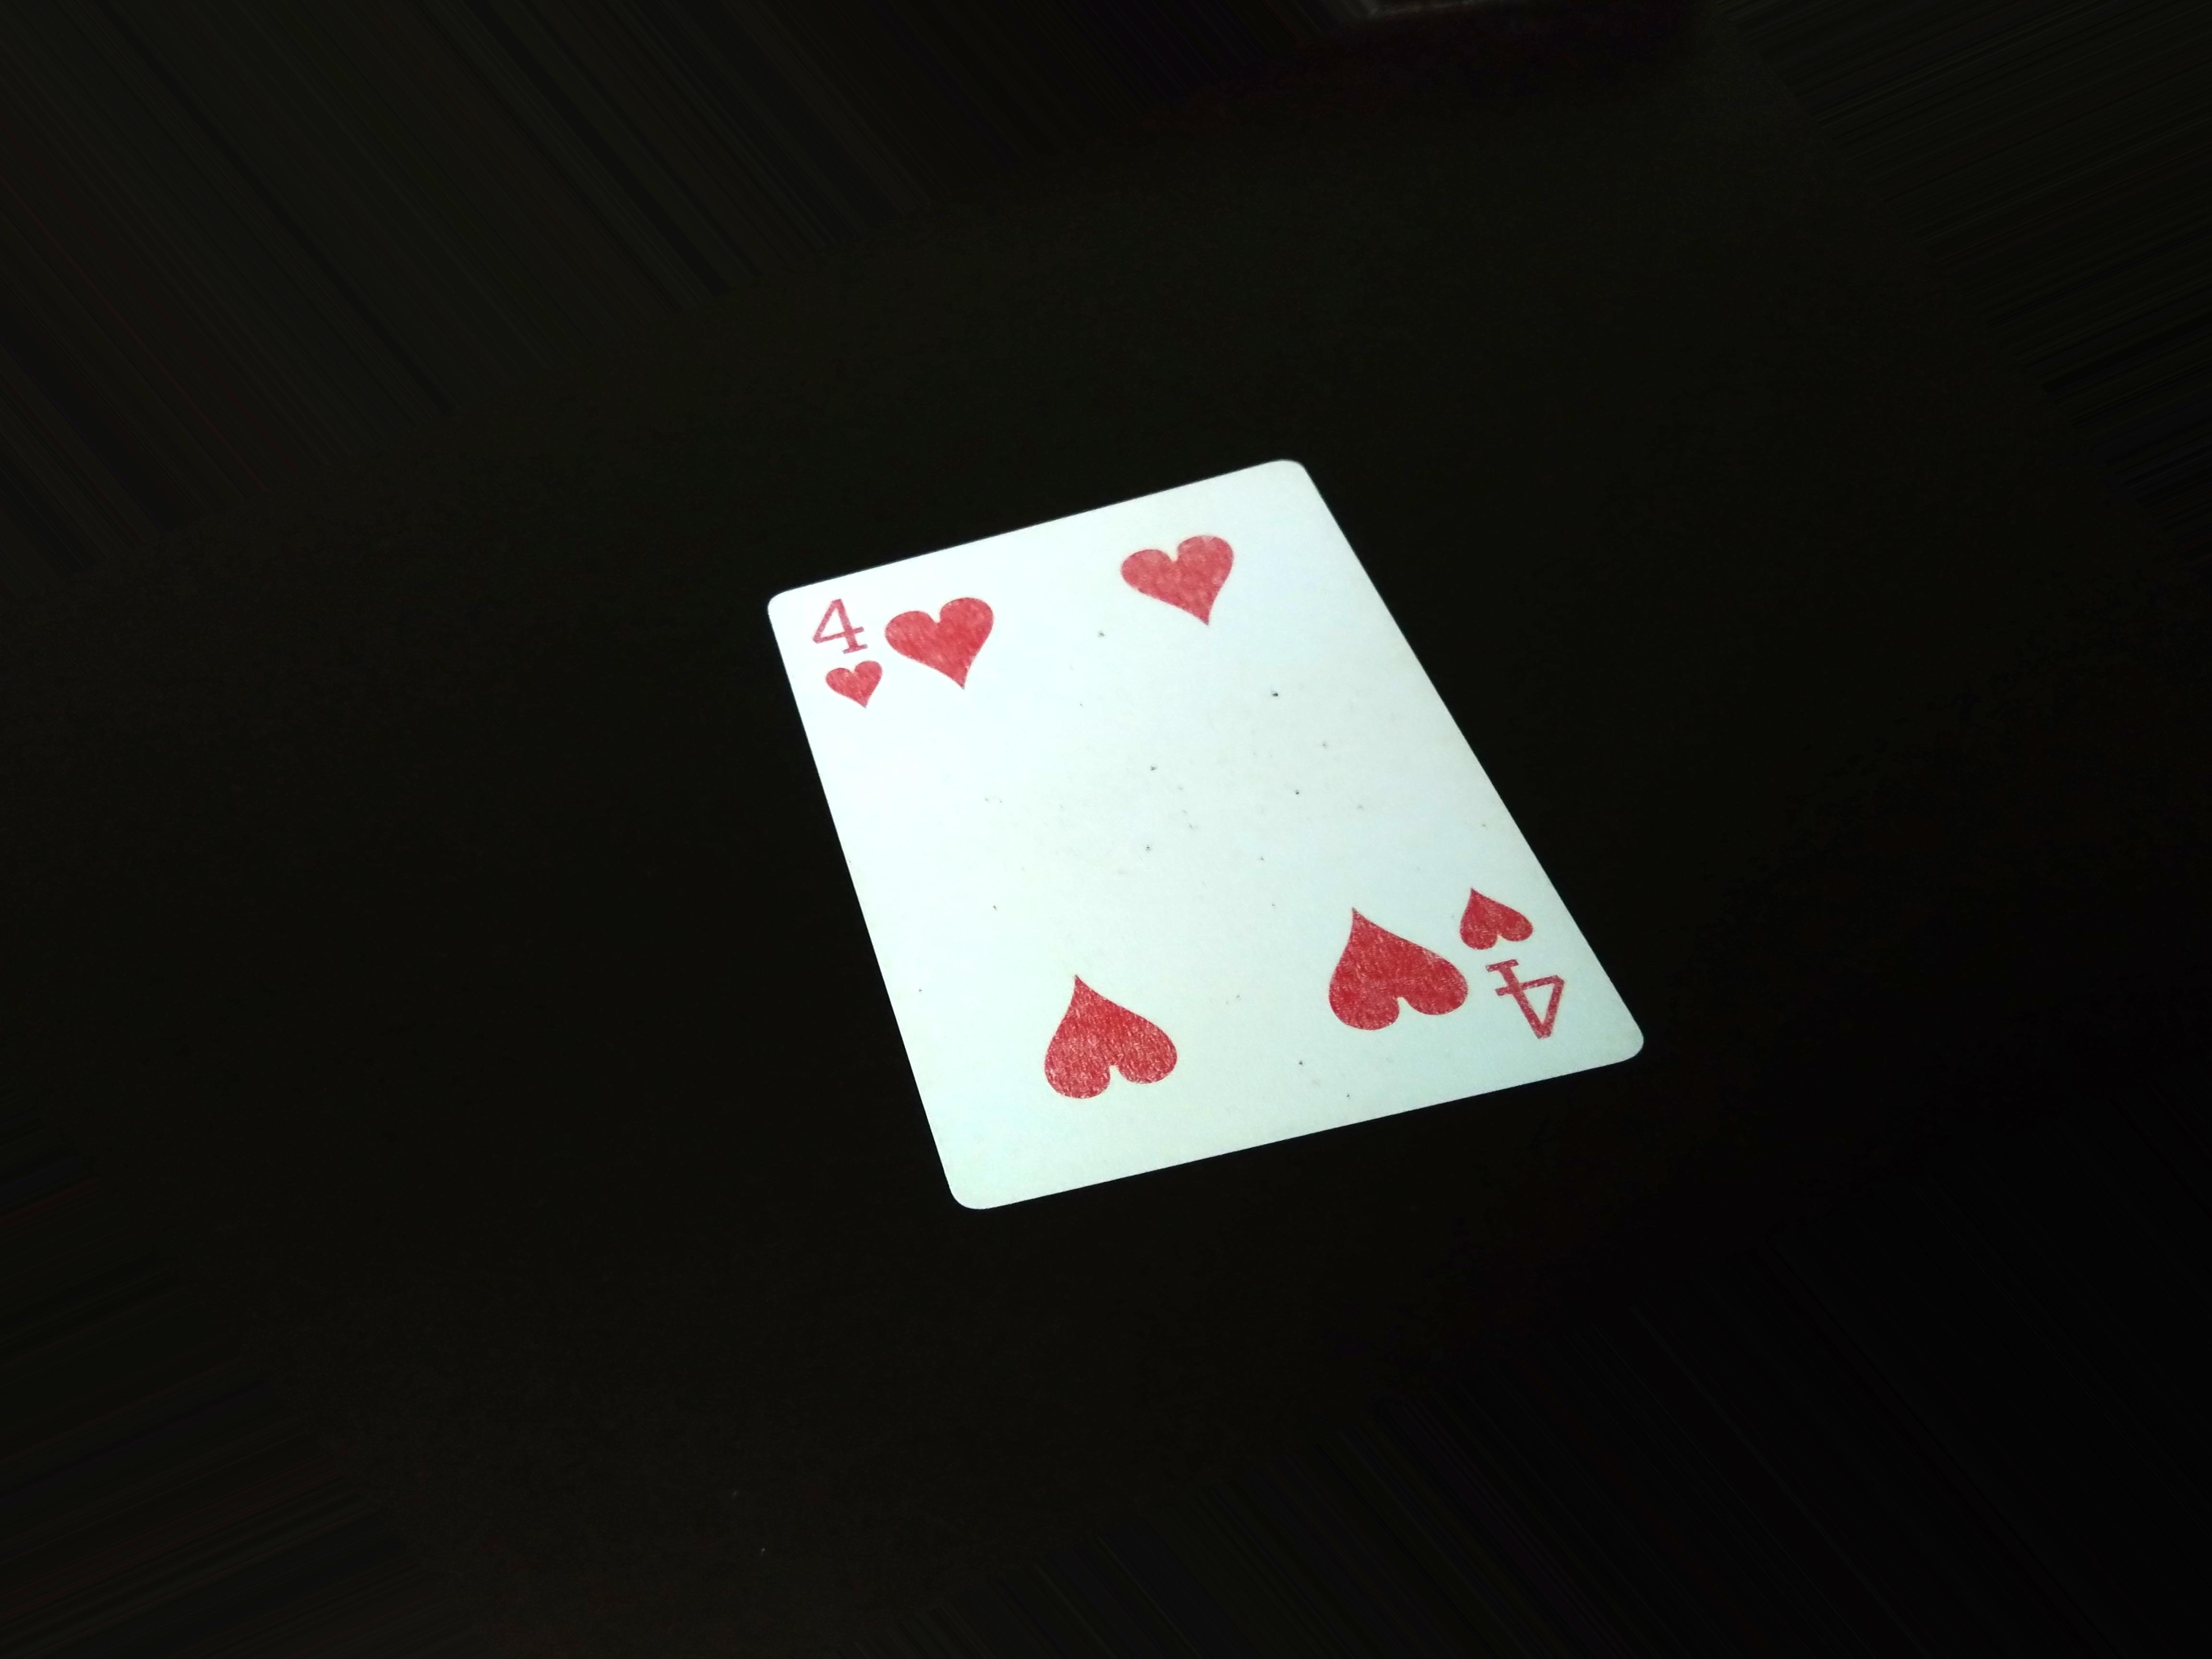4H: (791, 594, 900, 714)
